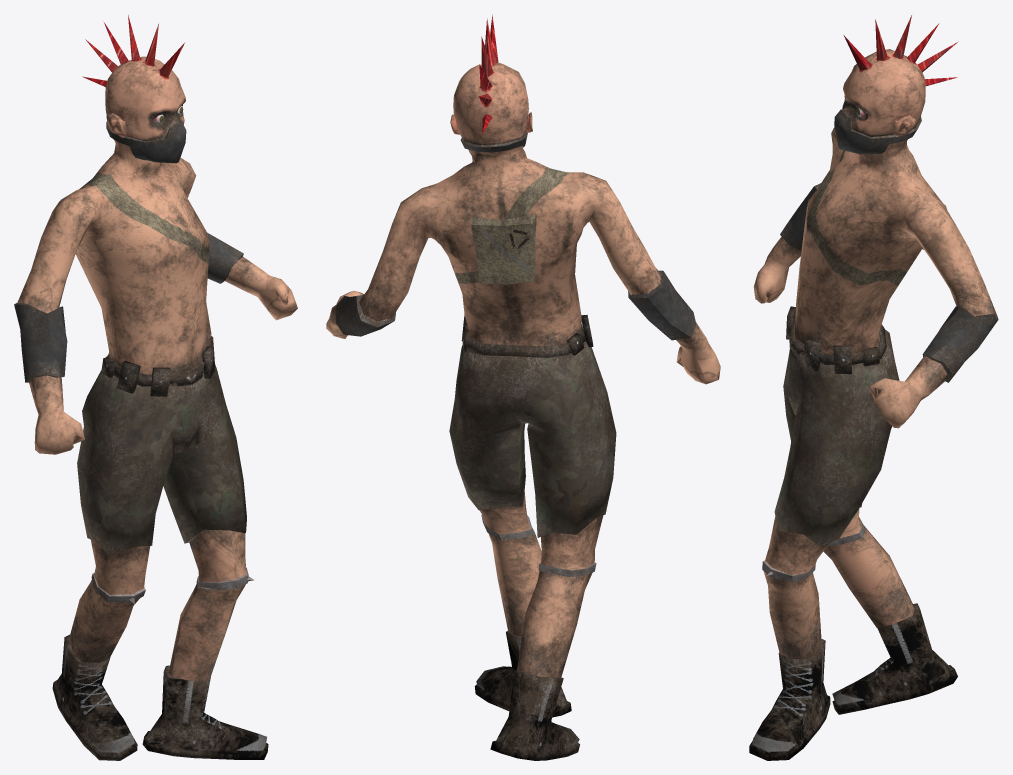
Rendered from Anim_ataque_f2_npc2.0013.obj.
3 renders of one model, left to right at view 1: azimuth 30°, elevation 25°; view 2: azimuth 150°, elevation 25°; view 3: azimuth 270°, elevation 25°, orthographic. The views are drawn at different scales.
Visible parts, largest first — view 1: polySurface1; view 2: polySurface1; view 3: polySurface1.
Part boxes in pixels (x1=…): polySurface1: x1=14, y1=15, x2=297, y2=760; polySurface1: x1=326, y1=14, x2=720, y2=760; polySurface1: x1=749, y1=15, x2=998, y2=760.
Size of the model in its own units: 4.71 by 10.07 by 3.16.
